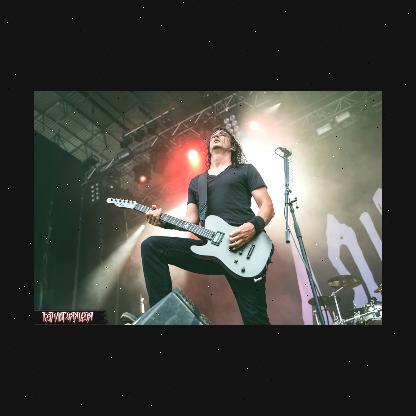guitar: (106, 197, 274, 282)
